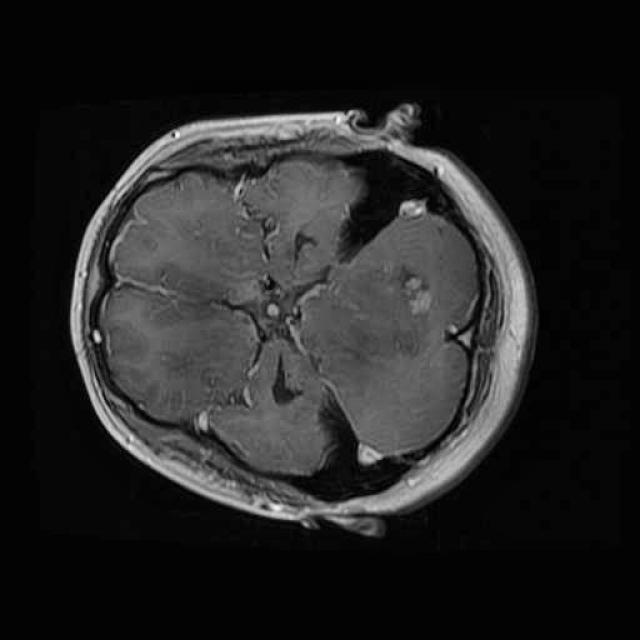Non-Tumor: (314, 250, 446, 379)
